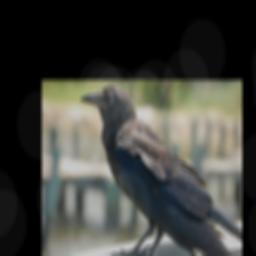Crow: (79, 85, 241, 256)
